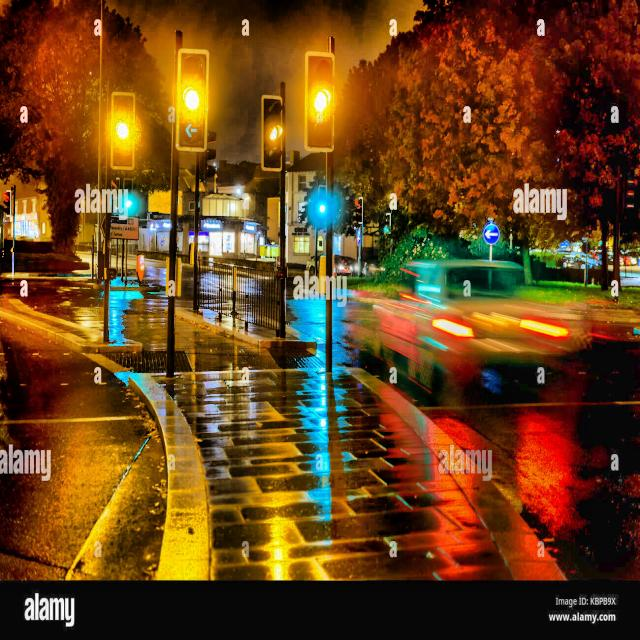green: (317, 186, 327, 220)
red: (2, 186, 10, 220), (354, 195, 362, 227)
yellow: (176, 47, 205, 154), (307, 55, 333, 150), (111, 94, 134, 169), (263, 102, 284, 169)
